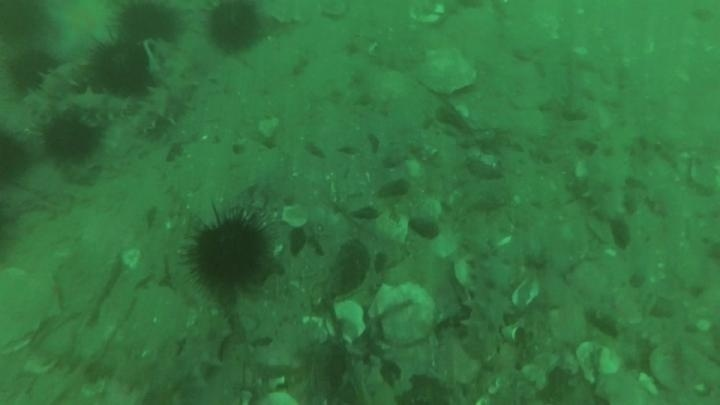echinus: (185, 209, 272, 295), (86, 37, 155, 99), (203, 2, 264, 56), (39, 113, 101, 164), (114, 1, 183, 46), (5, 47, 58, 94), (1, 1, 52, 44), (1, 126, 33, 187)
holothurian: (75, 311, 222, 396), (457, 244, 516, 365), (129, 54, 200, 137), (578, 125, 638, 223), (24, 59, 92, 115), (53, 86, 136, 126)
scallop: (1, 265, 59, 357), (371, 281, 440, 348), (648, 338, 719, 401), (416, 45, 479, 97), (406, 1, 448, 28), (317, 1, 351, 22)
starfish: (44, 1, 118, 60)
